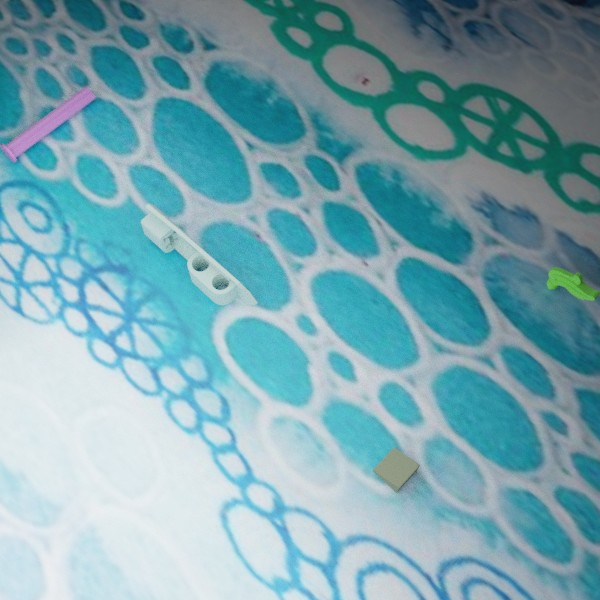lego: (140, 203, 257, 305), (0, 86, 95, 162), (372, 447, 420, 493), (546, 267, 600, 300)
